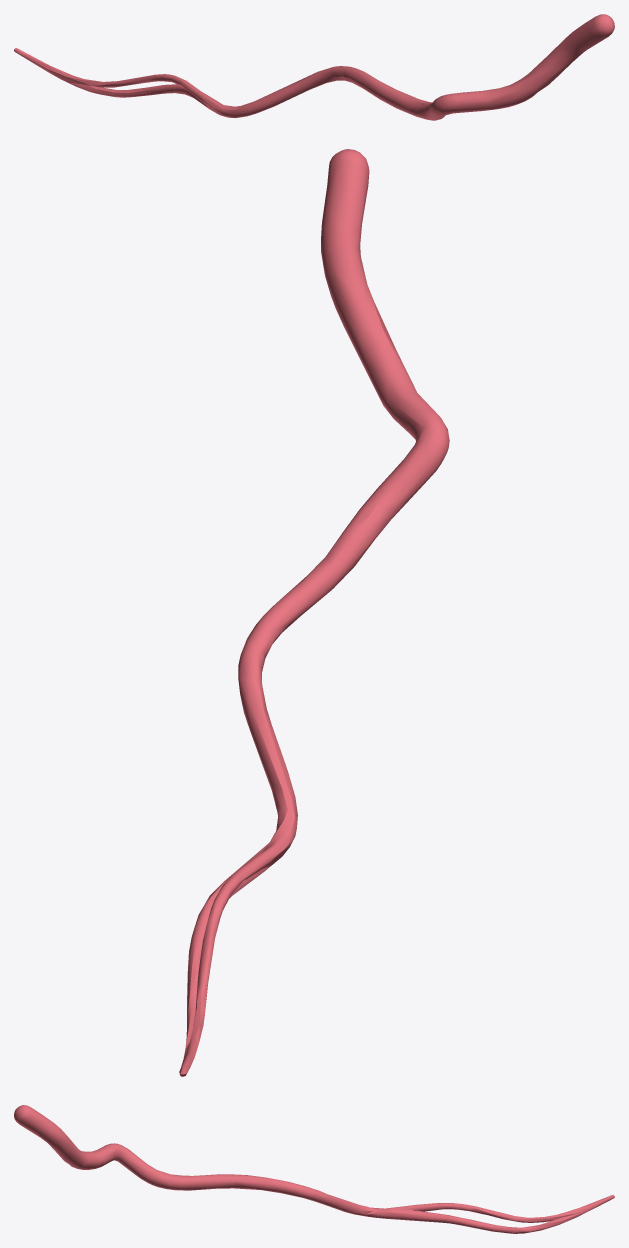
File: fma86134_fj5104.glb
3 renders of one model, top to bottom at view 1: azimuth 30°, elevation 25°; view 2: azimuth 150°, elevation 25°; view 3: azimuth 270°, elevation 25°, orthographic. The views are drawn at different scales.
Parts seen in each view (by area): view 1: FMA86134_FJ5104; view 2: FMA86134_FJ5104; view 3: FMA86134_FJ5104.
Part boxes in pixels (<box>): FMA86134_FJ5104: <box>14,14,614,120</box>; FMA86134_FJ5104: <box>179,149,449,1076</box>; FMA86134_FJ5104: <box>14,1105,614,1233</box>.
Bounding box in the file's own units: 0.0184 × 0.0168 × 0.0431.
